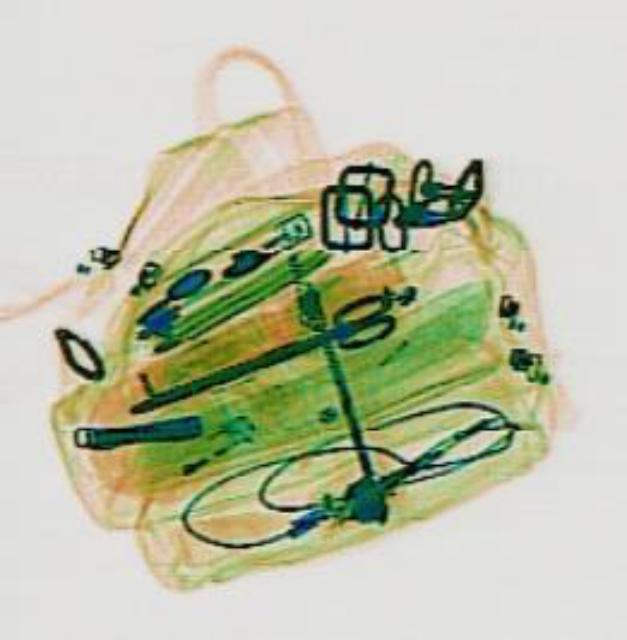Scissors: (116, 284, 399, 426)
